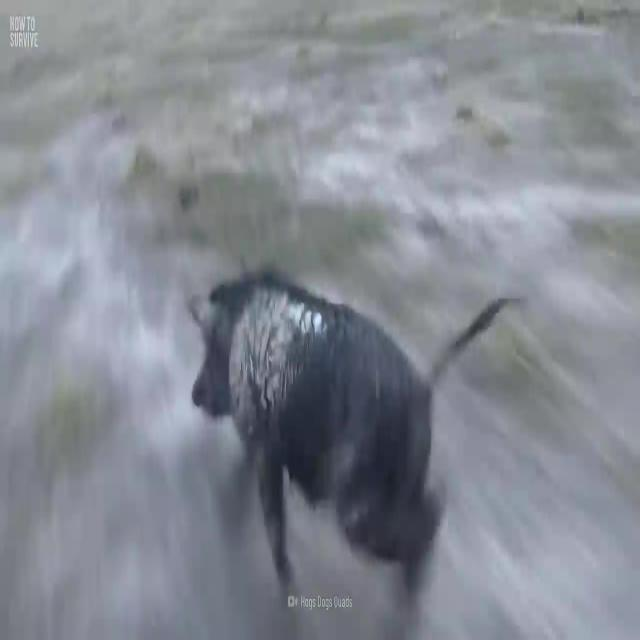pig: (176, 236, 526, 598)
